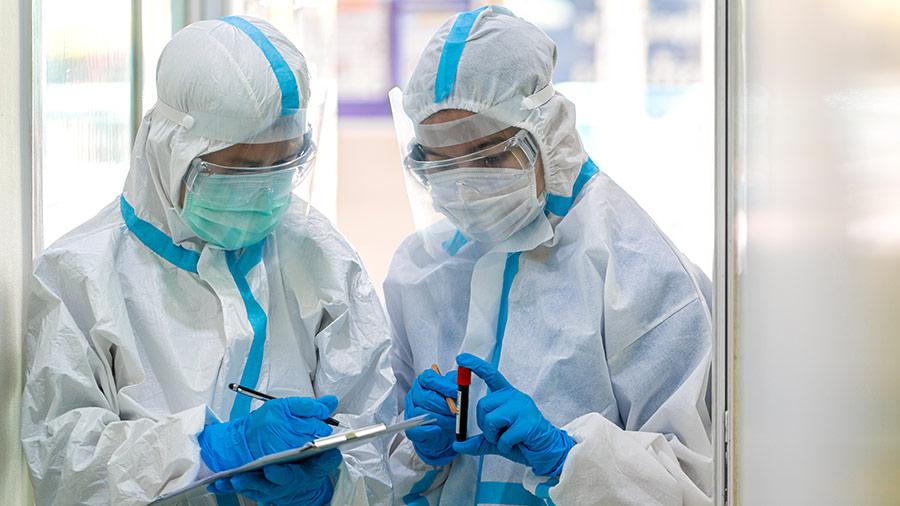Coverall: (33, 22, 375, 506), (385, 23, 696, 506)
Gloves: (457, 347, 585, 483), (194, 384, 341, 470), (211, 445, 357, 506), (390, 353, 463, 467)
Goggles: (179, 141, 330, 205), (396, 128, 541, 192)
with_mask: (422, 146, 542, 244), (183, 153, 293, 250)
